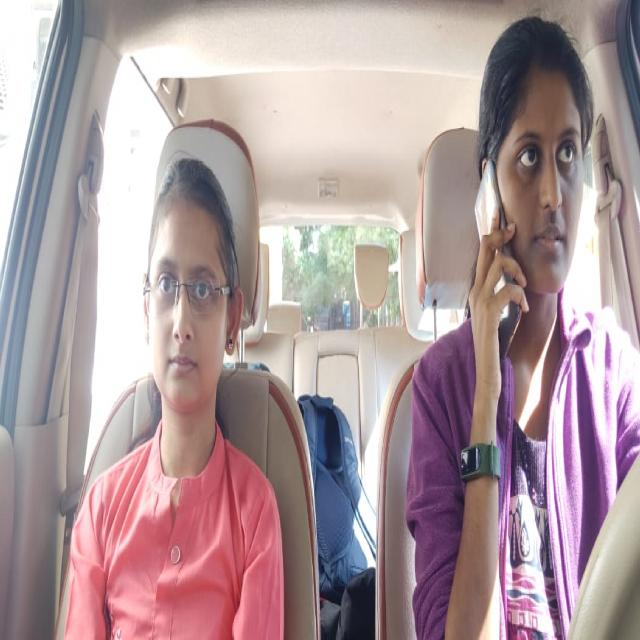mobile: (474, 158, 527, 355)
person: (483, 18, 595, 340), (139, 145, 247, 439)
